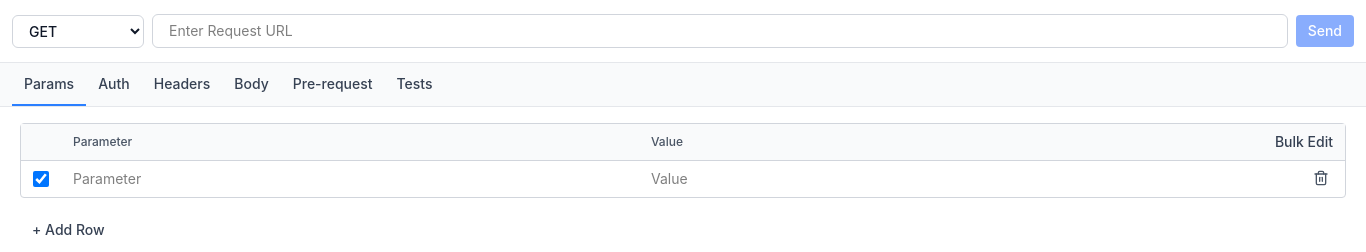
RequestForm › switches to auth tab
The image size is (1366, 252).
Click the tab "Auth".
click(114, 84)  # box [86, 63, 142, 106]
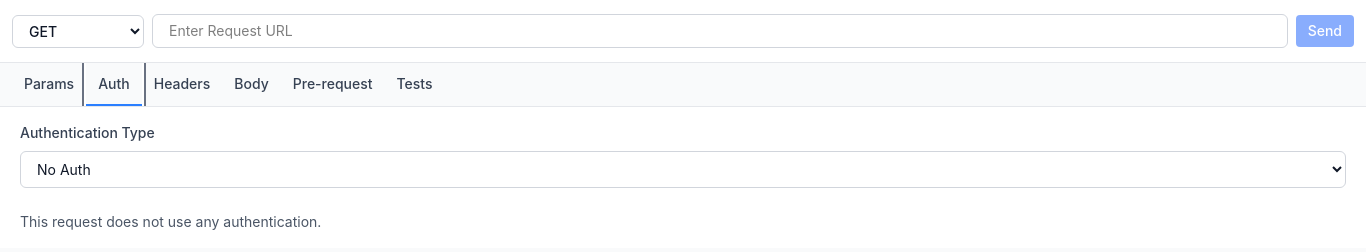
expect the text "Authentication Type" is shown: met, box [20, 124, 155, 141]
